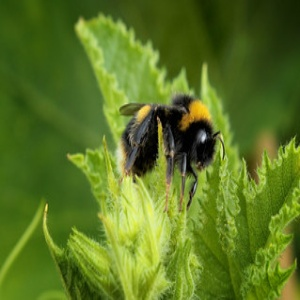bee: (123, 93, 225, 204)
